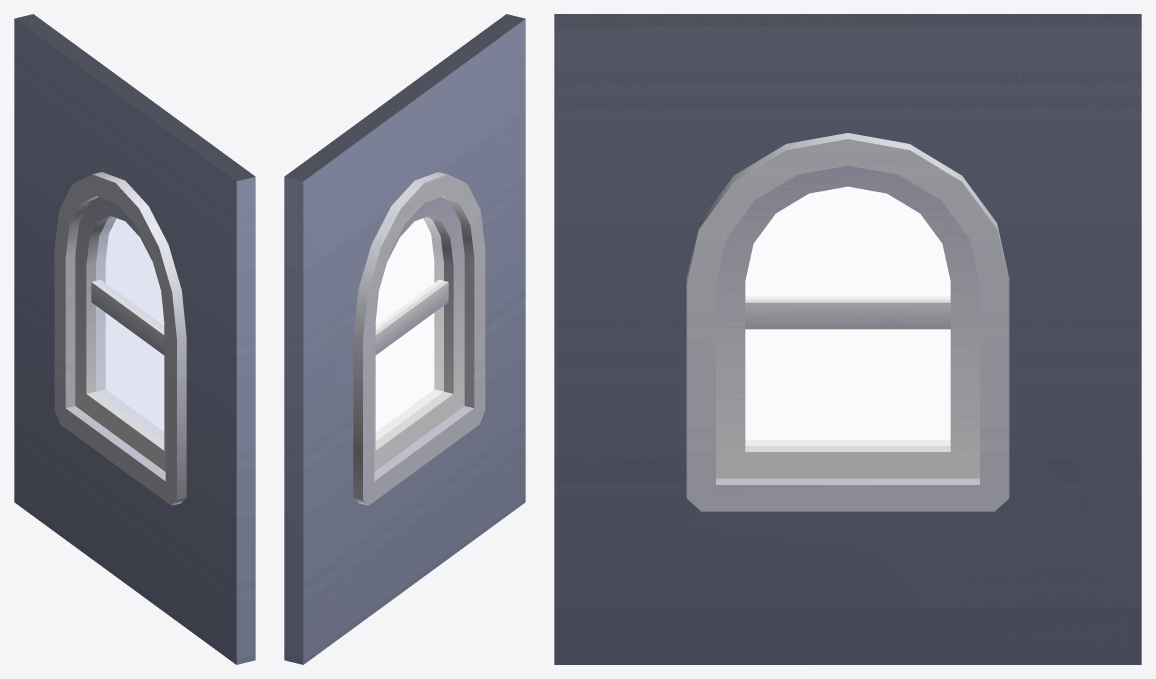
The model's file is wall-window-round-detailed.glb.
3 views of the same model, side by side, from view 1: azimuth 30°, elevation 25°; view 2: azimuth 150°, elevation 25°; view 3: azimuth 270°, elevation 25° (orthographic). The views are drawn at different scales.
Parts seen in each view (by area): view 1: wall-window-round-detailed, (%ignore); view 2: wall-window-round-detailed, (%ignore); view 3: wall-window-round-detailed, (%ignore).
Part boxes in pixels (x1=…): wall-window-round-detailed: x1=14, y1=14, x2=255, y2=664; (%ignore): x1=96, y1=217, x2=164, y2=440; wall-window-round-detailed: x1=284, y1=14, x2=525, y2=664; (%ignore): x1=375, y1=217, x2=443, y2=440; wall-window-round-detailed: x1=554, y1=14, x2=1141, y2=664; (%ignore): x1=745, y1=186, x2=950, y2=445.
Bounding box in the file's own units: 0.2 × 2.4 × 2.
Materials: 2 (1 with a texture image).
